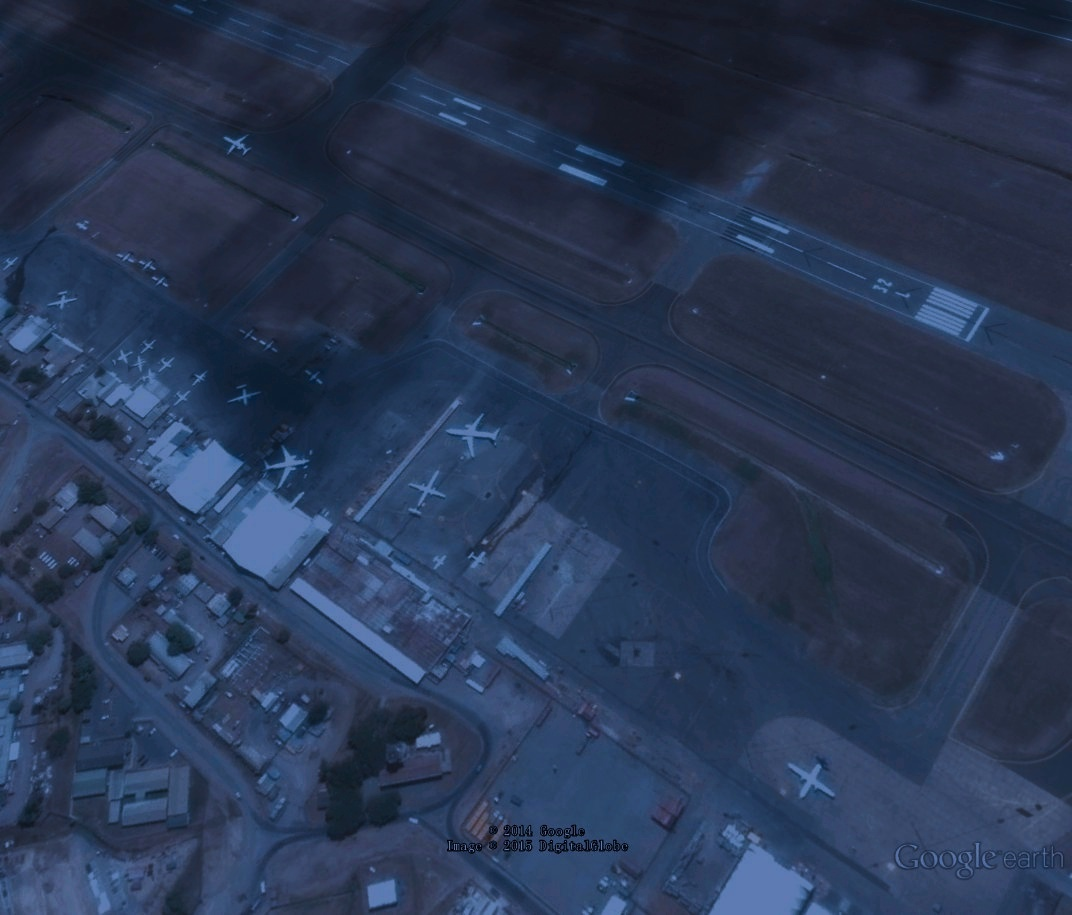aircraft: (444, 410, 502, 463), (260, 442, 314, 492), (785, 756, 840, 804), (404, 465, 452, 519), (220, 130, 257, 161), (225, 383, 265, 411), (44, 289, 81, 313), (303, 366, 327, 391), (123, 353, 147, 374), (136, 367, 161, 387), (255, 338, 282, 356), (111, 349, 136, 368), (467, 549, 489, 570), (155, 355, 178, 375), (150, 272, 175, 290), (170, 388, 192, 408), (188, 369, 211, 388), (136, 257, 163, 273), (237, 325, 260, 342), (73, 216, 94, 234), (114, 250, 139, 265), (139, 338, 161, 355), (431, 553, 449, 571), (3, 255, 21, 272)
